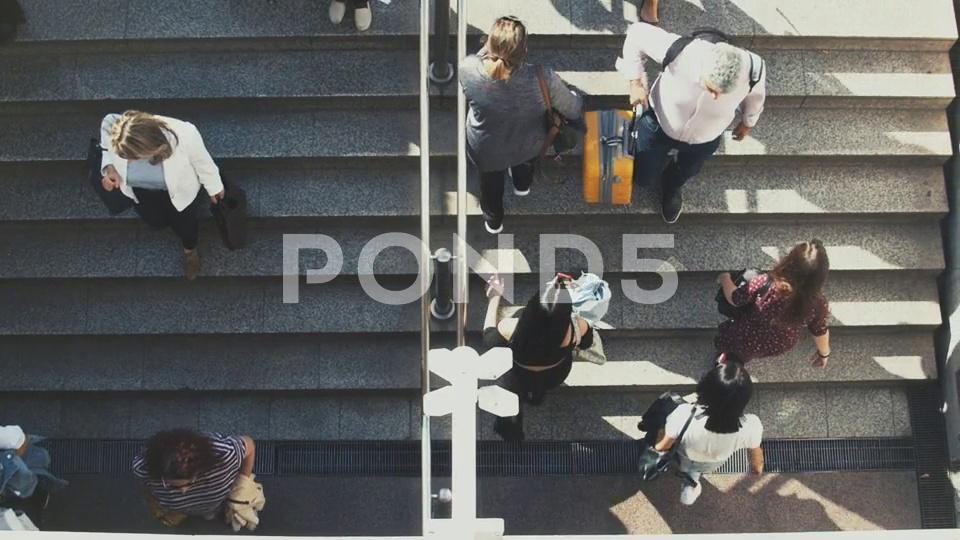person: (612, 17, 770, 250), (431, 25, 592, 233), (87, 102, 253, 269), (467, 266, 615, 440), (633, 358, 776, 503), (705, 238, 843, 381), (117, 425, 275, 539)
